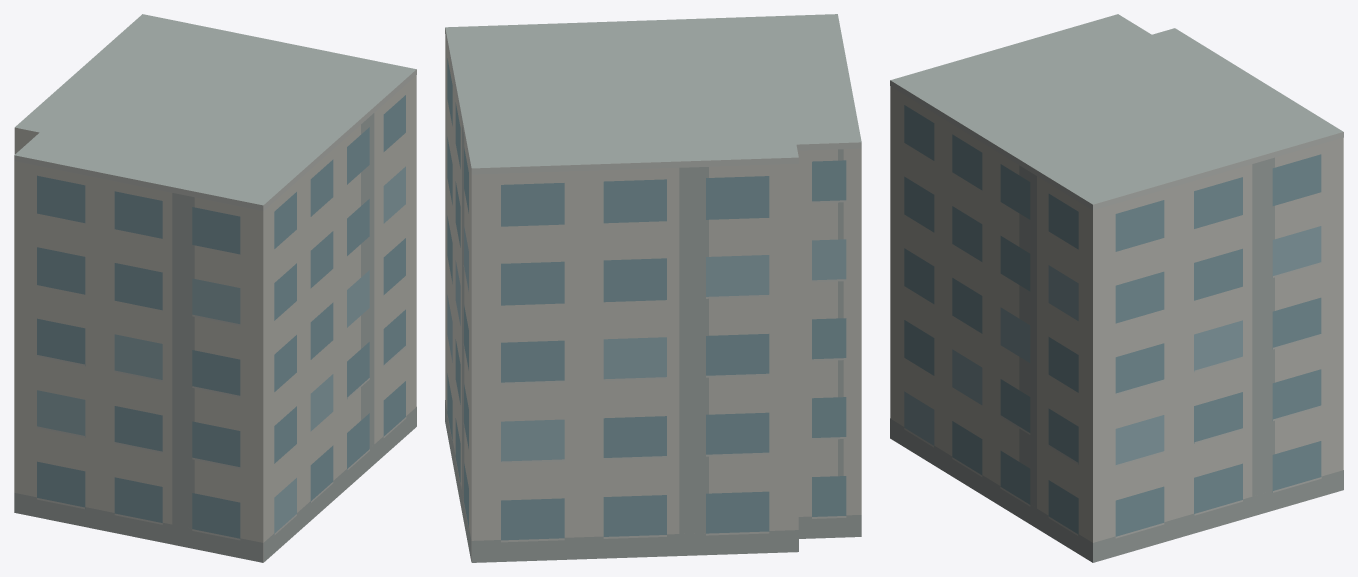
The model's file is residential-20ac8ec7-7841-4046-b401-e798bd926137.glb.
The picture shows the model from 3 angles, left to right: view 1: azimuth 30°, elevation 25°; view 2: azimuth 150°, elevation 25°; view 3: azimuth 270°, elevation 25°; orthographic projection. The views are drawn at different scales.
Parts seen in each view (by area): view 1: residential-20ac8ec7-7841-4046-b401-e798bd926137.tmp; view 2: residential-20ac8ec7-7841-4046-b401-e798bd926137.tmp; view 3: residential-20ac8ec7-7841-4046-b401-e798bd926137.tmp.
Boxes of the visible parts, <box> form: residential-20ac8ec7-7841-4046-b401-e798bd926137.tmp: <box>14,14,416,562</box>; residential-20ac8ec7-7841-4046-b401-e798bd926137.tmp: <box>445,14,861,562</box>; residential-20ac8ec7-7841-4046-b401-e798bd926137.tmp: <box>890,14,1343,562</box>.
Size of the model in its own units: 17.42 by 15.25 by 17.51.
